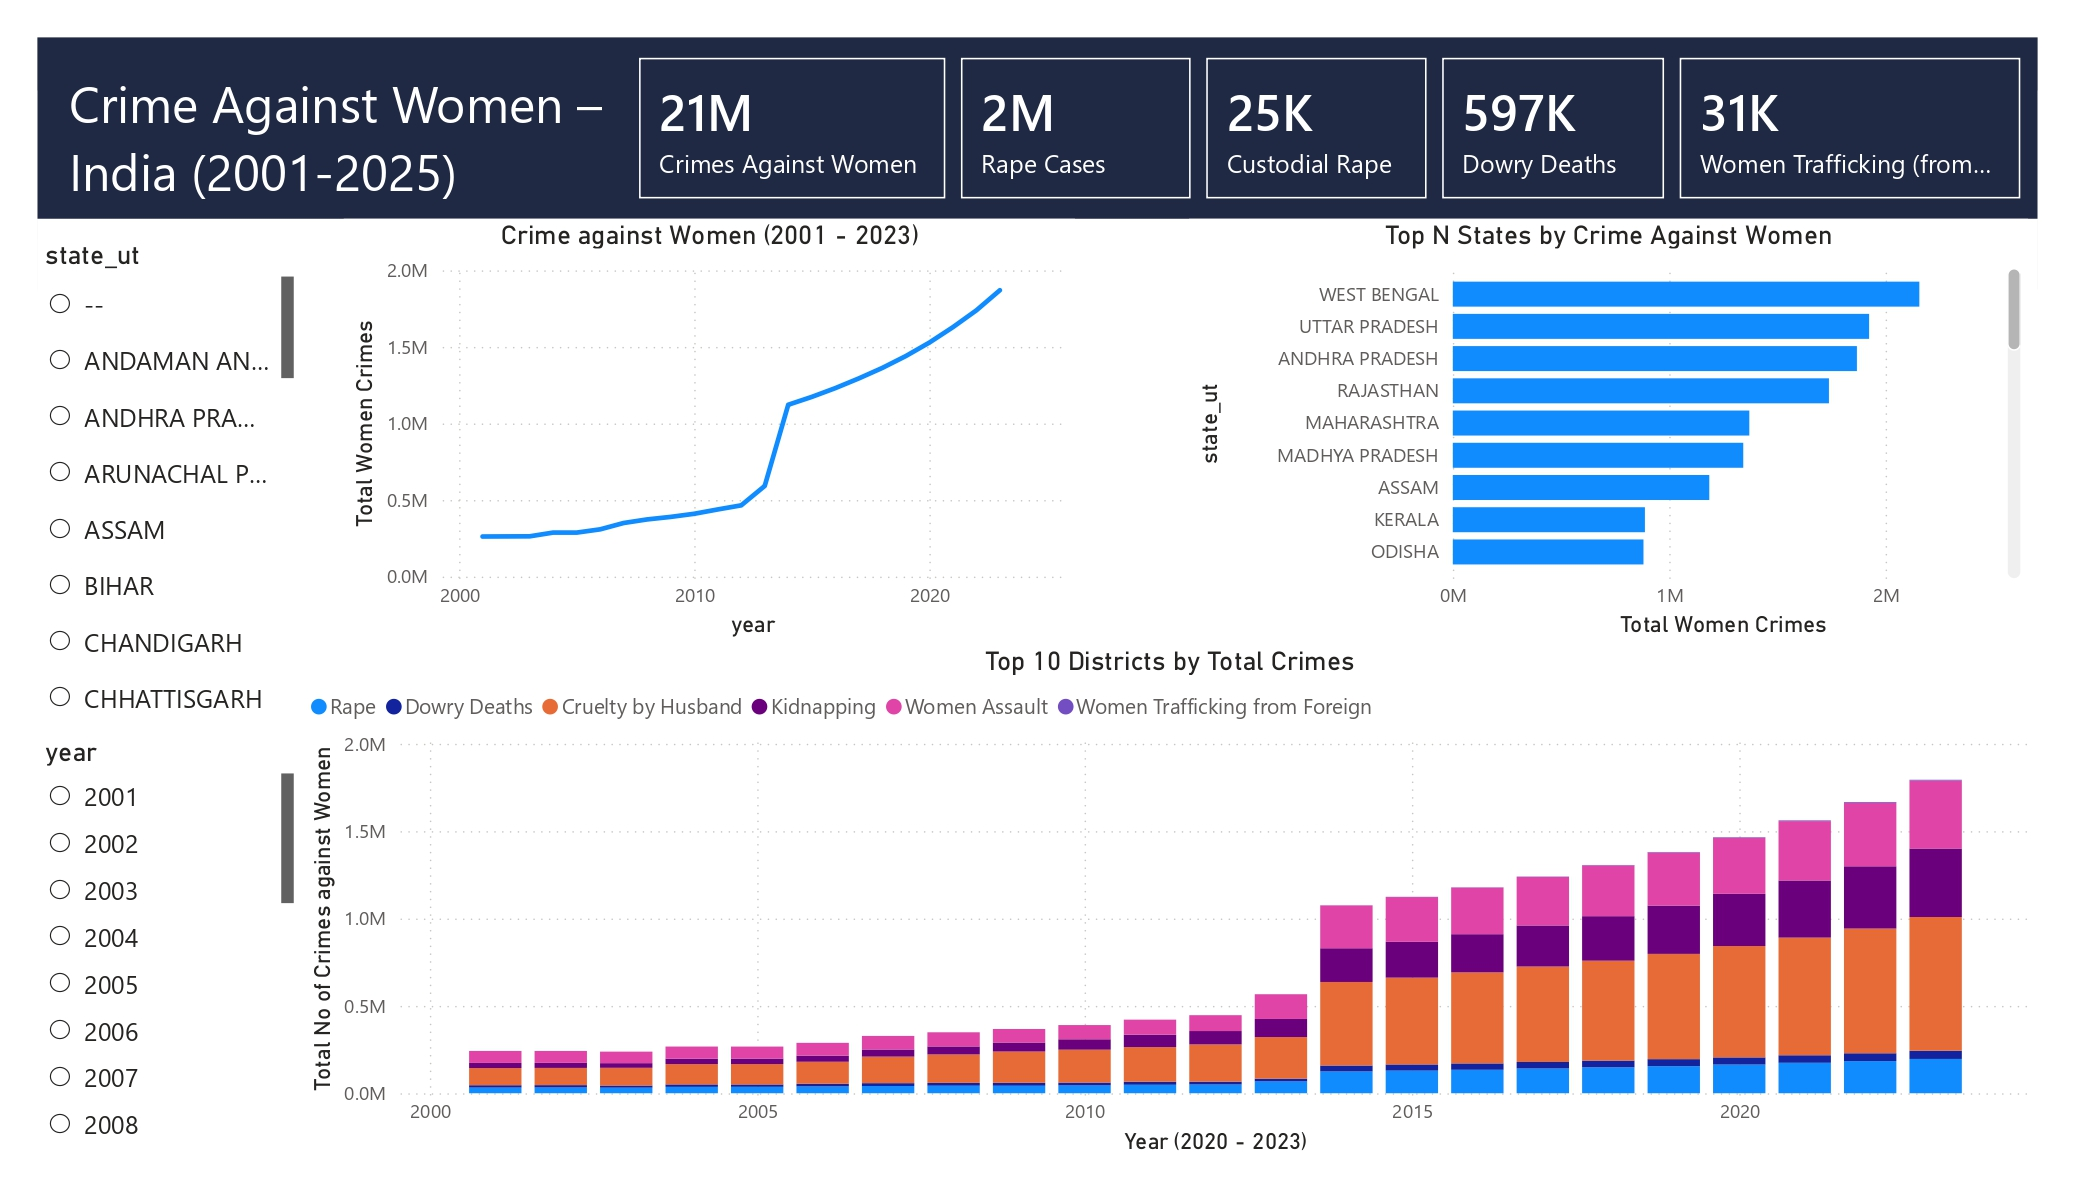

The dashboard page shown, as its layout file describes it:
{"tool":"powerbi","page":{"name":"Crime Against Women","canvas":[1280,720],"ordinal":1},"visuals":[{"type":"shape","box":[0,0,1280,115.7],"z":0},{"type":"lineChart","title":"Crime against Women (2001 - 2023)","fields":{"Y":["crime_against_women.Total Women Crimes"],"Category":["crime_against_women.year"]},"box":[195.7,115.7,468.6,272.9],"z":1000},{"type":"listSlicer","fields":{"Values":["Dim States.state_ut"]},"box":[0,128.6,168.6,318.6],"z":2000},{"type":"clusteredBarChart","title":"Top N States by Crime Against Women","fields":{"Category":["Dim States.state_ut"],"Y":["crime_against_women.Total Women Crimes"]},"box":[737.1,115.7,537.1,272.9],"z":3000},{"type":"listSlicer","fields":{"Values":["Crime District Year.year"]},"box":[0,447.1,168.6,272.9],"z":4000},{"type":"columnChart","title":"Top 10 Districts by Total Crimes","fields":{"Y":["Sum(crime_against_women.rape)","Sum(crime_against_women.dowry_deaths)","Sum(crime_against_women.cruelty_by_husband_or_his_relatives)","Sum(crime_against_women.kidnapping_and_abduction_of_women_and_girls)","Sum(crime_against_women.assault_on_women_with_intent_to_outrage_her_modesty)","Sum(crime_against_women.importation_of_girls_from_foreign_countries)"],"Category":["crime_against_women.year"]},"box":[168.6,388.6,1111.4,330],"z":5000},{"type":"cardVisual","fields":{"Data":["Crime State Year.Crimes Against Women"]},"box":[380,7.5,206.2,100],"z":6000},{"type":"cardVisual","fields":{"Data":["Sum(crime_against_women.dowry_deaths)"]},"box":[893.8,7.5,152.5,100],"z":7000},{"type":"cardVisual","fields":{"Data":["Sum(crime_against_women.rape)"]},"box":[586.2,7.5,156.2,100],"z":8000},{"type":"textbox","box":[15,15,498.8,113.8],"z":9000},{"type":"cardVisual","fields":{"Data":["Sum(crime_against_women.custodial_rape)"]},"box":[742.5,7.5,151.2,100],"z":10000},{"type":"cardVisual","fields":{"Data":["Sum(crime_against_women.importation_of_girls_from_foreign_countries)"]},"box":[1046.2,7.5,227.5,100],"z":11000}]}

Visuals, with their boxes on the page's 1280x720 design canvas (x1, y1, x2, y2). These are canvas units, not pixel positions in the 2075x1200 screenshot, which may show the page scaled, cropped or inside an application window:
shape: <region>0, 0, 1280, 116</region>
"Crime against Women (2001 - 2023)" lineChart: <region>196, 116, 664, 389</region>
listSlicer - Dim States.state_ut: <region>0, 129, 169, 447</region>
"Top N States by Crime Against Women" clusteredBarChart: <region>737, 116, 1274, 389</region>
listSlicer - Crime District Year.year: <region>0, 447, 169, 720</region>
"Top 10 Districts by Total Crimes" columnChart: <region>169, 389, 1280, 719</region>
cardVisual - Crime State Year.Crimes Against Women: <region>380, 8, 586, 108</region>
cardVisual - Sum(crime_against_women.dowry_deaths): <region>894, 8, 1046, 108</region>
cardVisual - Sum(crime_against_women.rape): <region>586, 8, 742, 108</region>
textbox: <region>15, 15, 514, 129</region>
cardVisual - Sum(crime_against_women.custodial_rape): <region>742, 8, 894, 108</region>
cardVisual - Sum(crime_against_women.importation_of_girls_from_foreign_countries): <region>1046, 8, 1274, 108</region>
